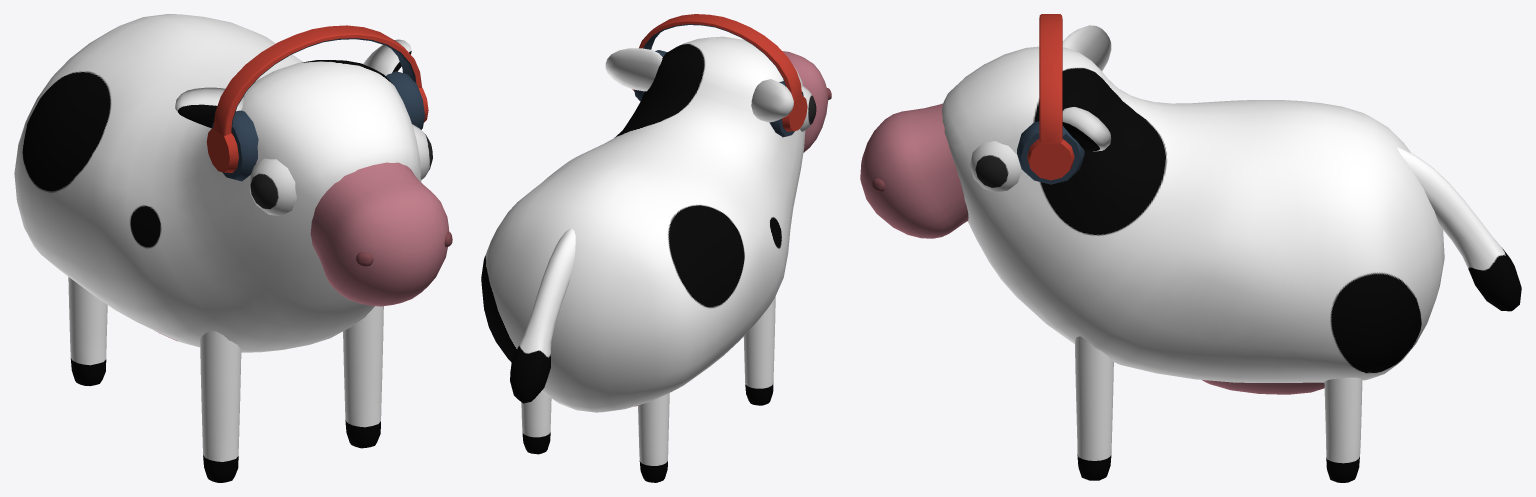
The model's file is Cow.fbx.
The picture shows the model from 3 angles, left to right: view 1: azimuth 30°, elevation 25°; view 2: azimuth 150°, elevation 25°; view 3: azimuth 270°, elevation 25°; orthographic projection. The views are drawn at different scales.
Visible parts, largest first — view 1: Da_bo, Bo_nude, Tai_nghe; view 2: Da_bo, Bo_nude, Tai_nghe; view 3: Da_bo, Bo_nude, Tai_nghe.
Boxes of the visible parts, x1,y1,x2,y2 form: Da_bo: (14,14,421,482); Bo_nude: (156,39,452,341); Tai_nghe: (206,25,428,181); Da_bo: (481,36,805,482); Bo_nude: (605,48,831,406); Tai_nghe: (632,14,807,137); Da_bo: (941,46,1521,482); Bo_nude: (860,25,1324,394); Tai_nghe: (1017,14,1084,184).
Size of the model in its own units: 236 by 355 by 507.
